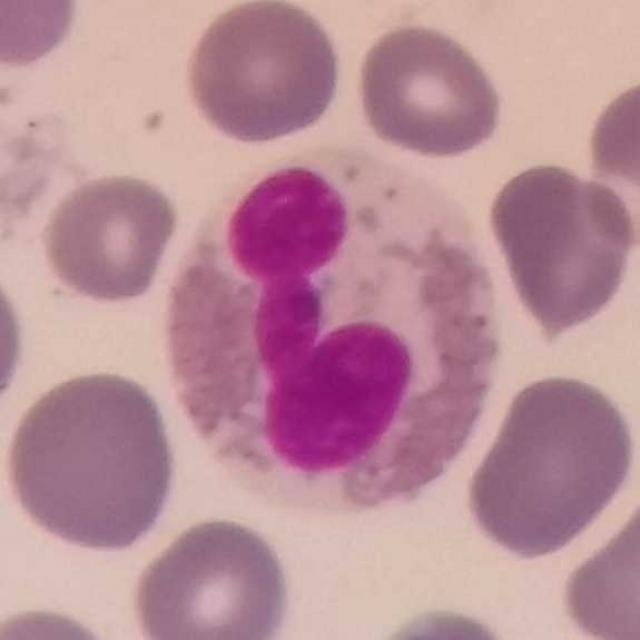Eosinophil: (162, 144, 502, 525)
RBC: (459, 367, 640, 564), (0, 363, 183, 555), (483, 157, 637, 336), (179, 0, 345, 149), (350, 18, 508, 162), (125, 512, 298, 640), (36, 167, 182, 308), (554, 477, 640, 640), (579, 70, 640, 256), (353, 602, 526, 640), (0, 0, 84, 72), (0, 253, 31, 434), (0, 601, 130, 640)
